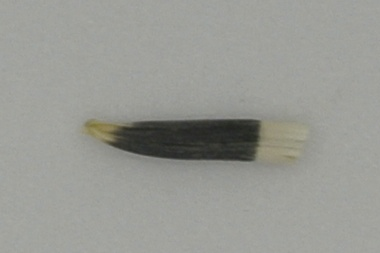เมล็ดดีติดกัน: (74, 119, 311, 169)
